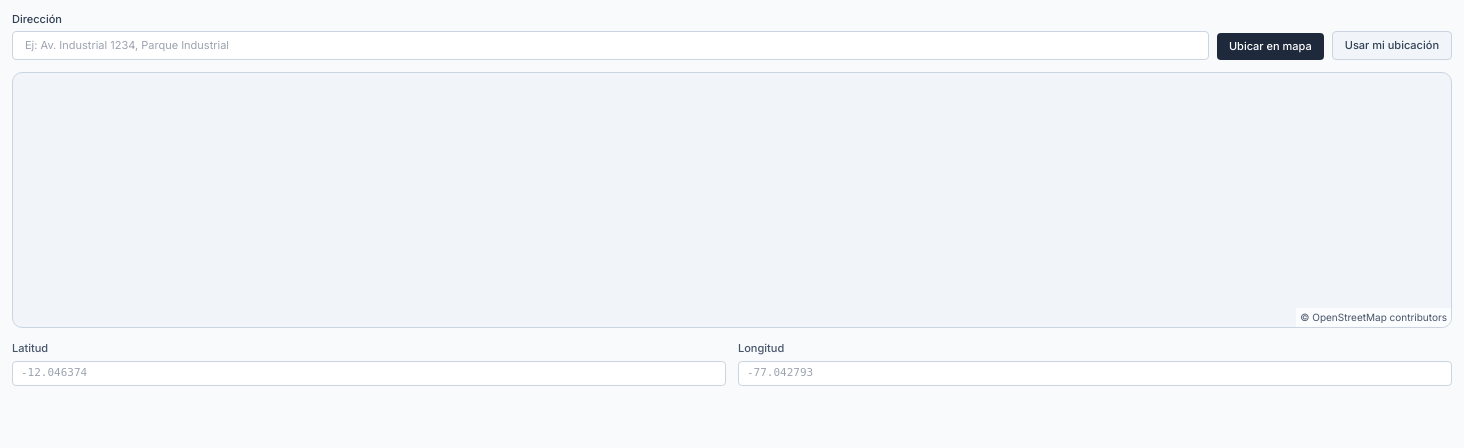
Scenario: F005.4 · Geolocalización de Sedes — Full E2E & Component Test Suite › Tier 2: Boundary & Corner Cases › T2-GEO-01: Geolocation permission denied (code 1) shows friendly alert
The image size is (1464, 448).
Click the button "Usar mi ubicación" at coordinates (1392, 45), box [1332,31,1452,60]
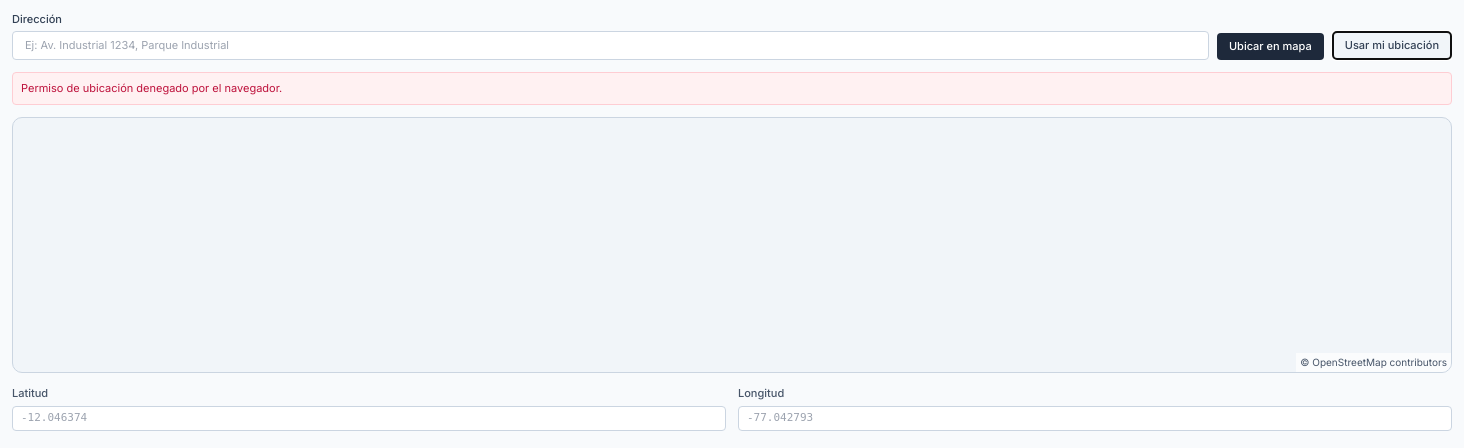
expect the message shows "Permiso de ubicación denegado por el navegador": met, box [21,81,282,95]
